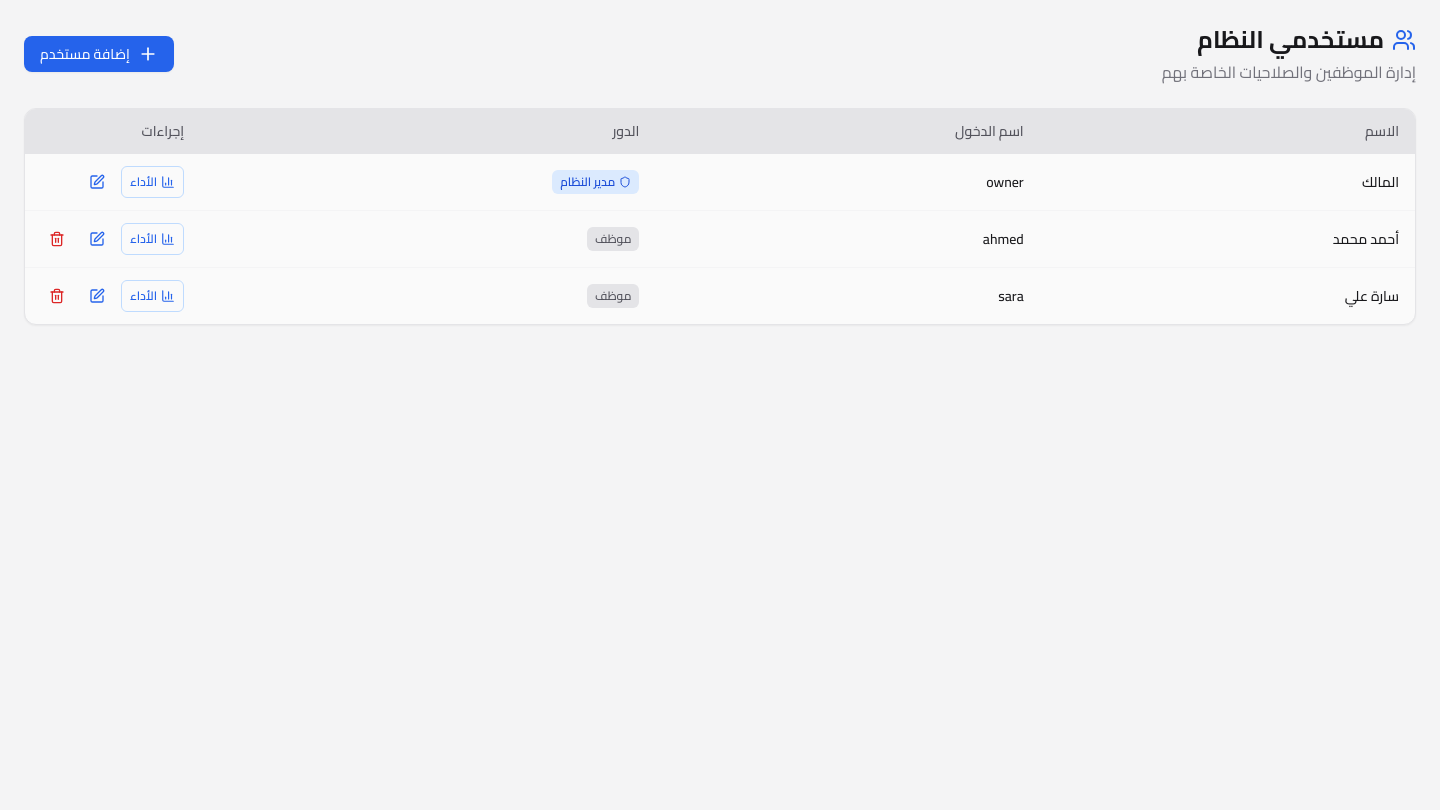
Test: UsersPage — TC-COMP-USERS › TC-COMP-USERS-004 — deleting a user blocked by deleteUser() (shifts/invoices) shows an error toast, not success
Click the button without text in the row of "أحمد محمد" at (57, 239), box x1=41 y1=223 x2=73 y2=255
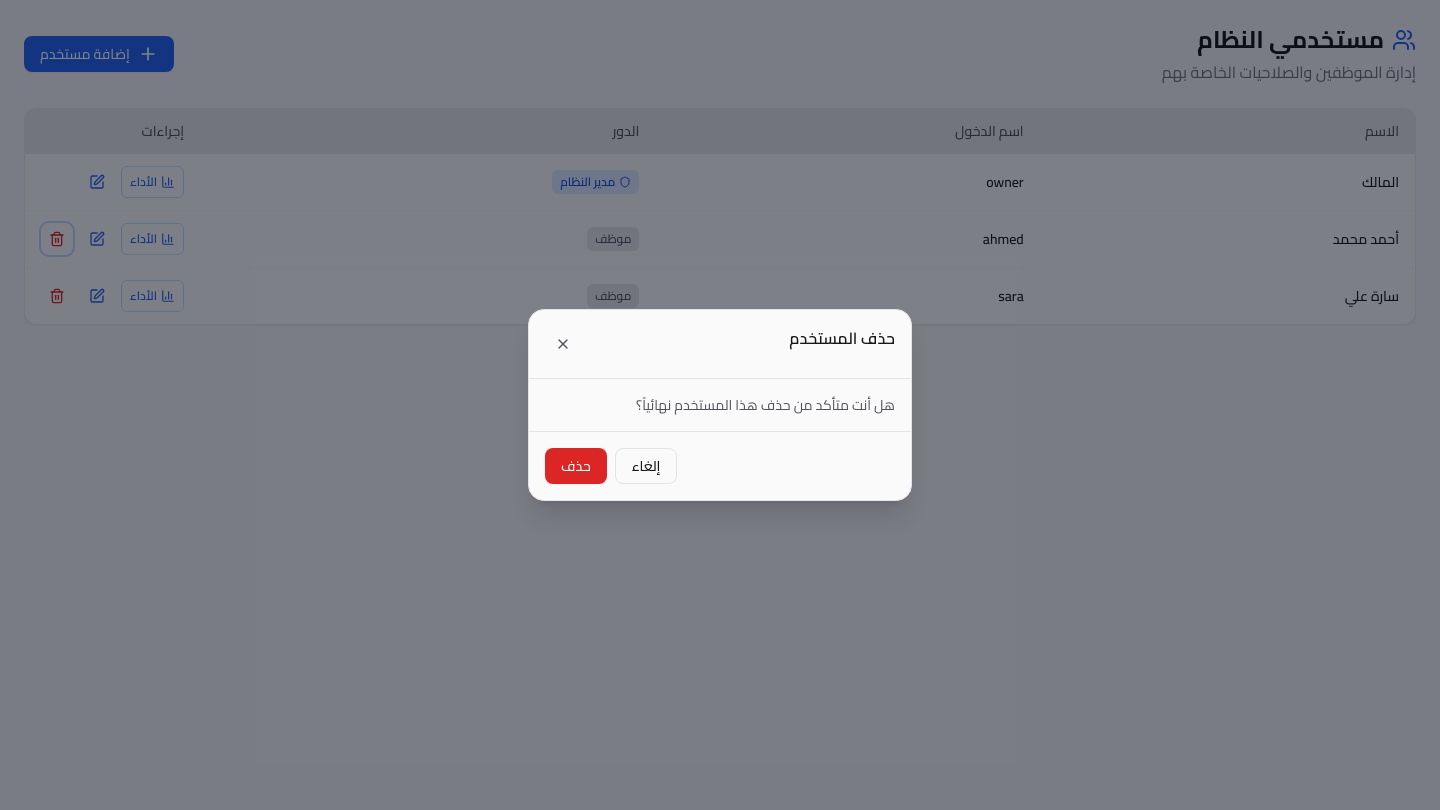
Click the button "حذف" at (576, 466), box x1=545 y1=448 x2=607 y2=484
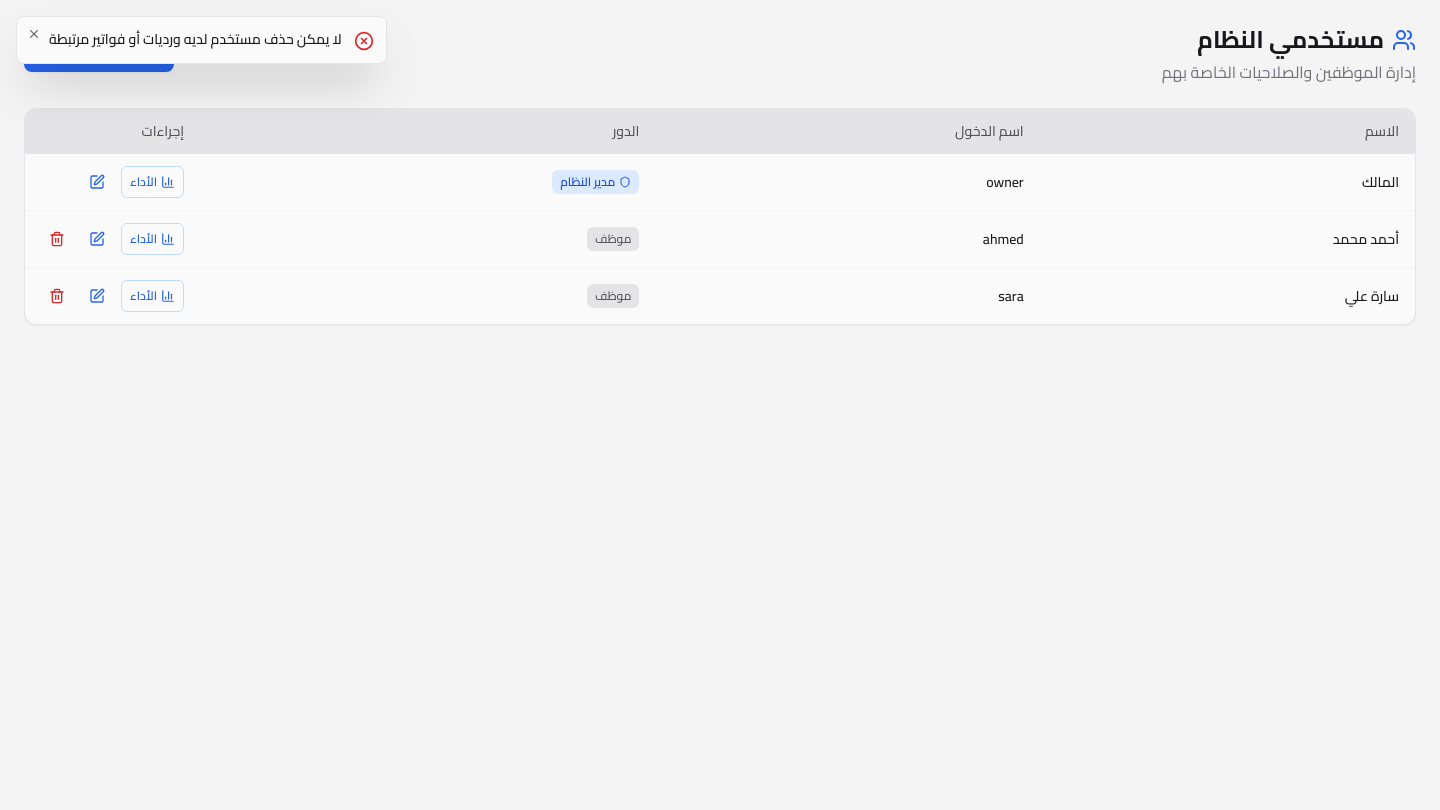
expect the message reads "لا يمكن حذف مستخدم لديه ورديات أو فواتير مرتبطة": met, box x1=49 y1=26 x2=342 y2=52
